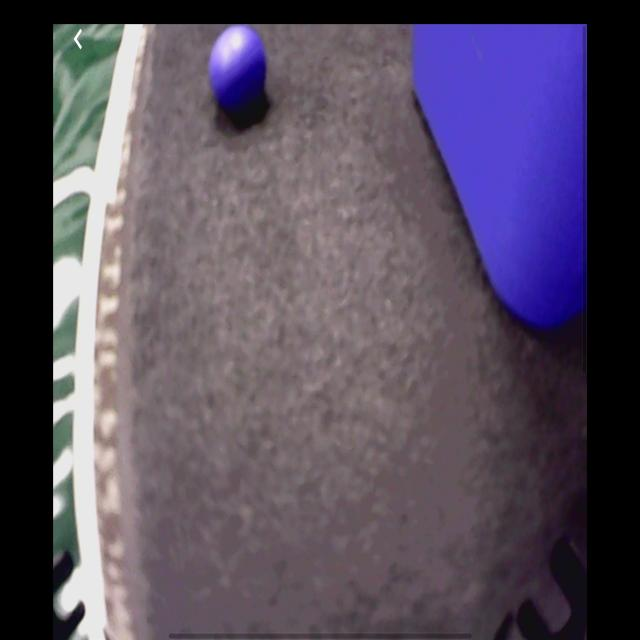ball: (210, 27, 268, 116)
